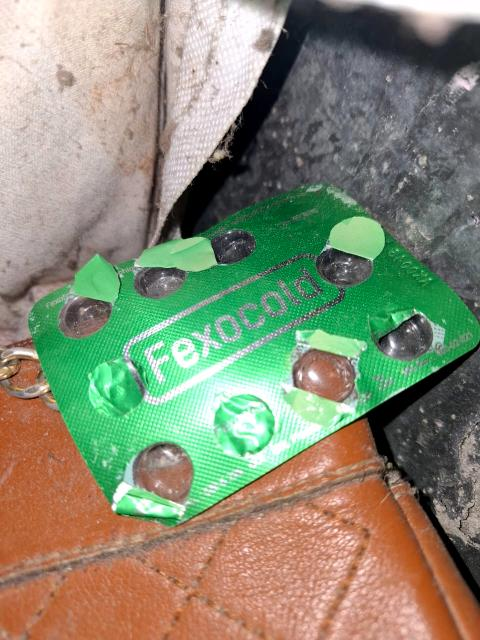medicine: (2, 128, 480, 544)
